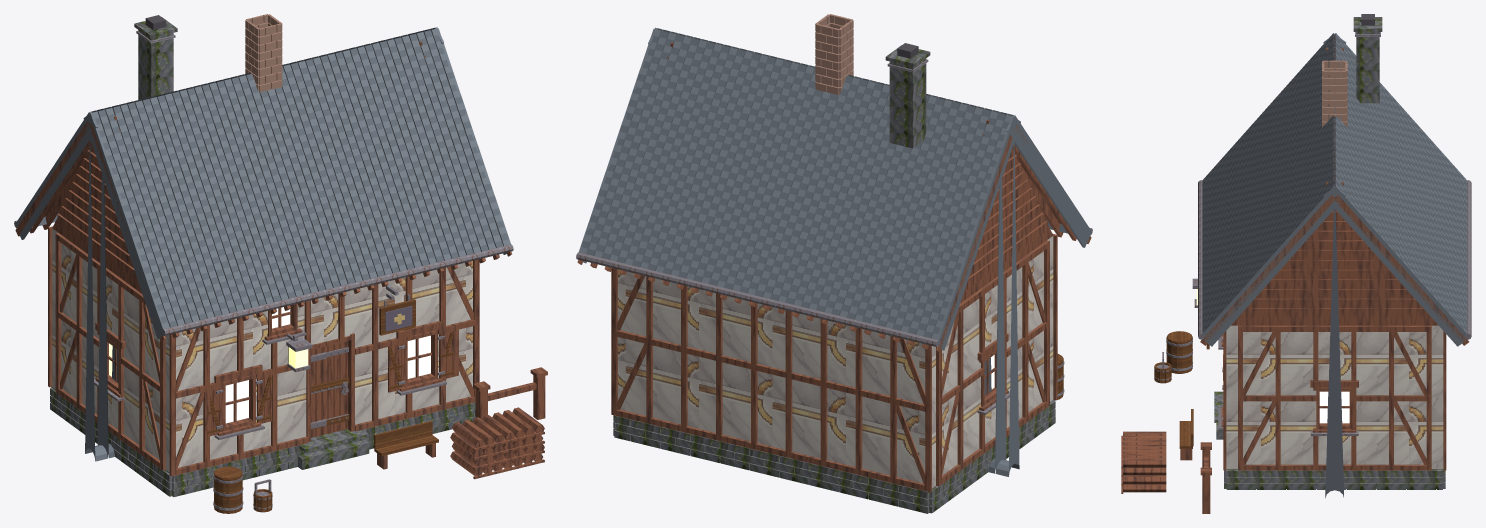
File: avsluta.glb
3 views of the same model, side by side, from view 1: azimuth 30°, elevation 25°; view 2: azimuth 150°, elevation 25°; view 3: azimuth 270°, elevation 25° (orthographic). The views are drawn at different scales.
Visible parts, largest first — view 1: avsluta_takpanna_ljus, avsluta_takpanna_mörk, avsluta_mörkt_virke, avsluta_puts, avsluta_fot_sten, avsluta_järn, avsluta_ljust_virke, avsluta_tegel, avsluta_sten, avsluta_mur, avsluta_fönster; view 2: avsluta_takpanna_ljus, avsluta_takpanna_mörk, avsluta_puts, avsluta_mörkt_virke, avsluta_fot_sten, avsluta_järn, avsluta_mur, avsluta_tegel; view 3: avsluta_takpanna_ljus, avsluta_mörkt_virke, avsluta_takpanna_mörk, avsluta_puts, avsluta_fot_sten, avsluta_järn, avsluta_ljust_virke, avsluta_mur, avsluta_tegel, avsluta_sten, avsluta_fönster.
Part boxes in pixels (x1,y1,x2,y2): avsluta_takpanna_ljus: [15, 27, 510, 461]; avsluta_takpanna_mörk: [18, 29, 508, 458]; avsluta_mörkt_virke: [15, 41, 547, 479]; avsluta_puts: [52, 228, 472, 472]; avsluta_fot_sten: [50, 387, 475, 496]; avsluta_järn: [14, 31, 513, 510]; avsluta_ljust_virke: [207, 299, 453, 513]; avsluta_tegel: [245, 14, 282, 94]; avsluta_sten: [134, 17, 369, 469]; avsluta_mur: [138, 30, 173, 99]; avsluta_fönster: [109, 307, 430, 423]; avsluta_takpanna_ljus: [579, 27, 1091, 476]; avsluta_takpanna_mörk: [581, 29, 1074, 473]; avsluta_puts: [618, 236, 1053, 488]; avsluta_mörkt_virke: [577, 42, 1091, 492]; avsluta_fot_sten: [613, 400, 1055, 513]; avsluta_järn: [576, 59, 1092, 414]; avsluta_mur: [889, 58, 926, 148]; avsluta_tegel: [815, 14, 853, 96]; avsluta_takpanna_ljus: [1201, 33, 1468, 491]; avsluta_mörkt_virke: [1121, 38, 1469, 513]; avsluta_takpanna_mörk: [1202, 36, 1467, 498]; avsluta_puts: [1226, 325, 1443, 469]; avsluta_fot_sten: [1224, 470, 1445, 489]; avsluta_järn: [1154, 32, 1471, 435]; avsluta_ljust_virke: [1154, 331, 1209, 448]; avsluta_mur: [1356, 32, 1379, 103]; avsluta_tegel: [1322, 60, 1347, 127]; avsluta_sten: [1214, 17, 1382, 439]; avsluta_fönster: [1319, 391, 1349, 423].
Bounding box in the file's own units: 12.02 × 12.1 × 10.5.
Materials: 14 (7 with a texture image).
